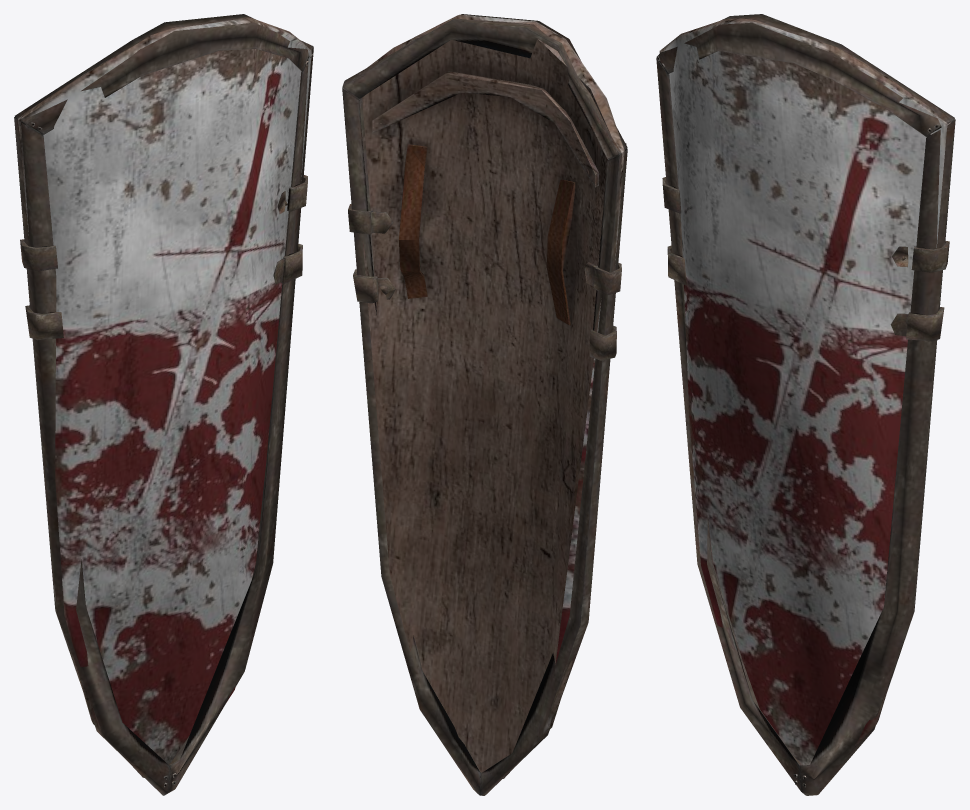
The model's file is kite_shield.glb.
3 renders of one model, left to right at view 1: azimuth 30°, elevation 25°; view 2: azimuth 150°, elevation 25°; view 3: azimuth 330°, elevation 25°, orthographic. The views are drawn at different scales.
Visible parts, largest first — view 1: kite_shield_body, kite_shield_metal_trim, kite_shield_clamps_and_bolts; view 2: kite_shield_body, kite_shield_metal_trim, kite_shield_clamps_and_bolts; view 3: kite_shield_body, kite_shield_metal_trim, kite_shield_clamps_and_bolts.
Part boxes in pixels (x1=…): kite_shield_body: x1=18, y1=17, x2=311, y2=777; kite_shield_metal_trim: x1=14, y1=14, x2=313, y2=795; kite_shield_clamps_and_bolts: x1=20, y1=54, x2=313, y2=787; kite_shield_body: x1=362, y1=14, x2=624, y2=778; kite_shield_metal_trim: x1=342, y1=14, x2=627, y2=795; kite_shield_clamps_and_bolts: x1=348, y1=143, x2=626, y2=360; kite_shield_body: x1=659, y1=18, x2=951, y2=765; kite_shield_metal_trim: x1=656, y1=14, x2=955, y2=795; kite_shield_clamps_and_bolts: x1=657, y1=56, x2=949, y2=787.
Bounding box in the file's own units: 0.5378 × 1.39 × 0.1347.
Materials: 2 (2 with a texture image).
